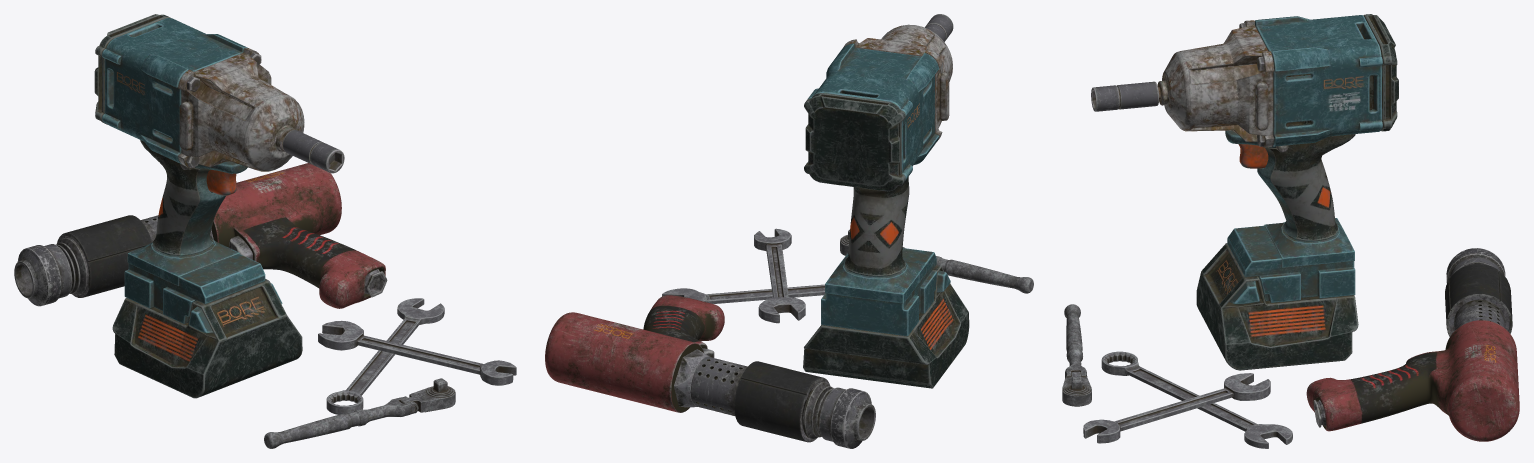
Rendered from garage_tool_collection-opt.glb.
3 renders of one model, left to right at view 1: azimuth 30°, elevation 25°; view 2: azimuth 150°, elevation 25°; view 3: azimuth 270°, elevation 25°, orthographic.
Parts seen in each view (by area): view 1: impact wrench_impact wrench.001_0, Air hammer.007_air hammer_0, wrench.001_wrenches_0; view 2: impact wrench_impact wrench.001_0, Air hammer.007_air hammer_0, wrench.001_wrenches_0; view 3: impact wrench_impact wrench.001_0, Air hammer.007_air hammer_0, wrench.001_wrenches_0.
Boxes of the visible parts, x1=… form: impact wrench_impact wrench.001_0: x1=94, y1=14, x2=344, y2=398; Air hammer.007_air hammer_0: x1=14, y1=163, x2=387, y2=308; wrench.001_wrenches_0: x1=264, y1=298, x2=516, y2=448; impact wrench_impact wrench.001_0: x1=803, y1=14, x2=969, y2=388; Air hammer.007_air hammer_0: x1=545, y1=295, x2=875, y2=448; wrench.001_wrenches_0: x1=662, y1=228, x2=1033, y2=323; impact wrench_impact wrench.001_0: x1=1091, y1=14, x2=1398, y2=370; Air hammer.007_air hammer_0: x1=1306, y1=248, x2=1519, y2=441; wrench.001_wrenches_0: x1=1062, y1=304, x2=1292, y2=448.
Bounding box in the file's own units: 0.2667 × 0.2523 × 0.3429.
Materials: 3 (3 with a texture image).
